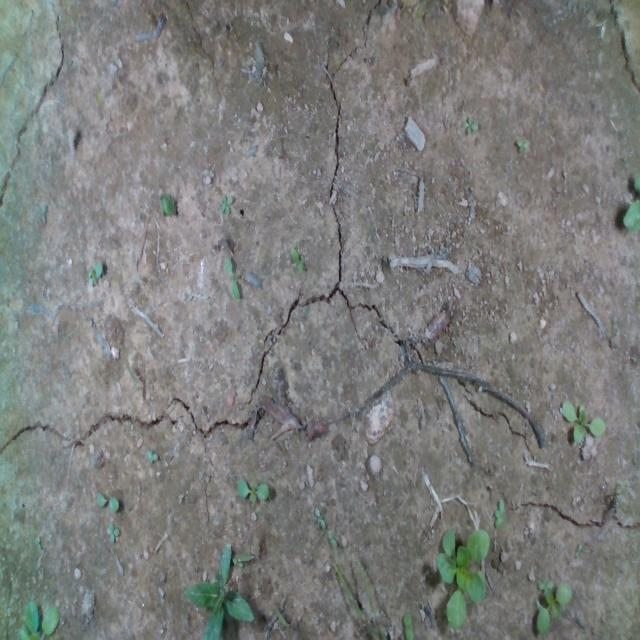weed: (560, 399, 606, 443), (222, 257, 249, 300), (232, 474, 276, 500), (82, 262, 114, 292), (491, 495, 513, 532), (286, 246, 312, 276), (512, 131, 546, 150), (217, 193, 239, 218), (459, 117, 487, 135), (94, 492, 120, 511), (106, 524, 120, 542), (144, 449, 158, 463)
